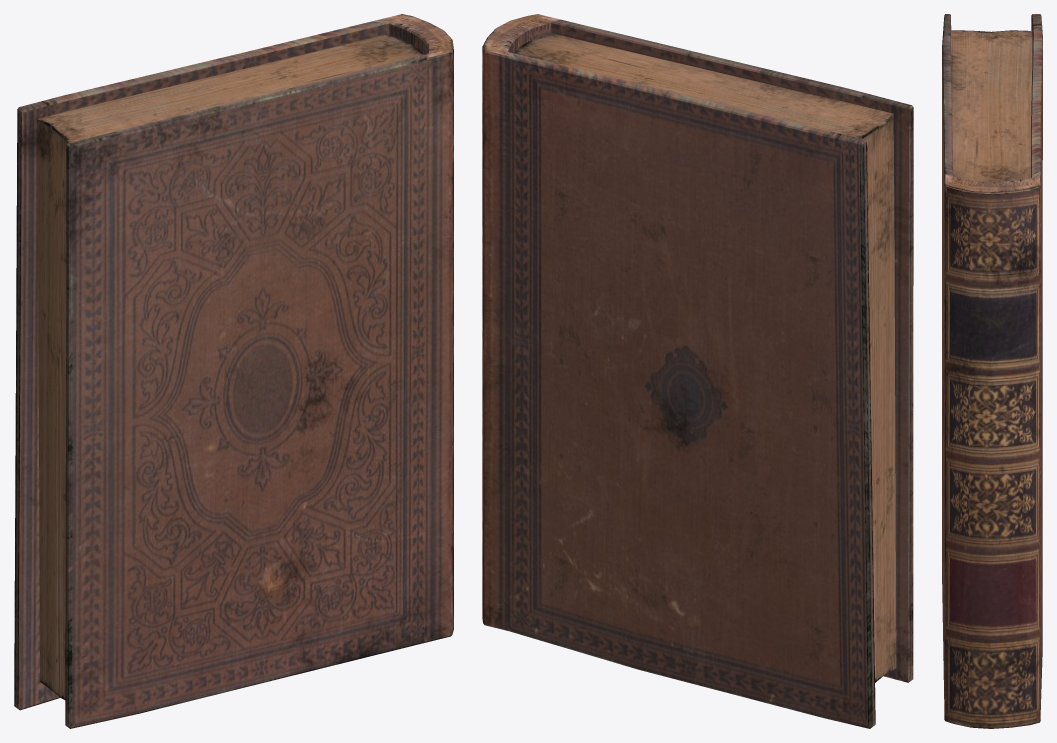
The model's file is book_9.glb.
3 views of the same model, side by side, from view 1: azimuth 30°, elevation 25°; view 2: azimuth 150°, elevation 25°; view 3: azimuth 270°, elevation 25° (orthographic). The views are drawn at different scales.
Parts seen in each view (by area): view 1: bookA31; view 2: bookA31; view 3: bookA31.
Part boxes in pixels (x1,y1,x2,y2): bookA31: (14, 14, 453, 728); bookA31: (482, 14, 913, 728); bookA31: (942, 14, 1042, 728).
Bounding box in the file's own units: 1.43 × 2 × 0.3334.
Materials: 1 (1 with a texture image).
